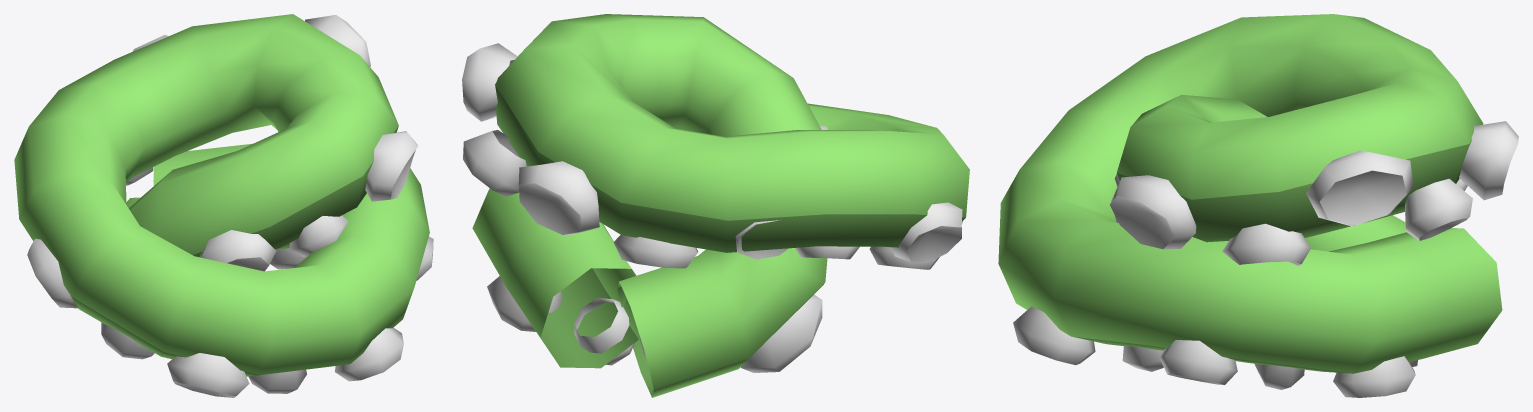
File: Kraken_Tentacle_Hug.fbx
3 views of the same model, side by side, from view 1: azimuth 30°, elevation 25°; view 2: azimuth 150°, elevation 25°; view 3: azimuth 270°, elevation 25° (orthographic). The views are drawn at different scales.
Parts seen in each view (by area): view 1: Tentacle_Hug; view 2: Tentacle_Hug; view 3: Tentacle_Hug.
Part boxes in pixels (x1=…): Tentacle_Hug: x1=14, y1=14, x2=433, y2=397; Tentacle_Hug: x1=462, y1=14, x2=969, y2=397; Tentacle_Hug: x1=998, y1=14, x2=1518, y2=397.
Size of the model in its own units: 2.25 by 1.48 by 2.23.
